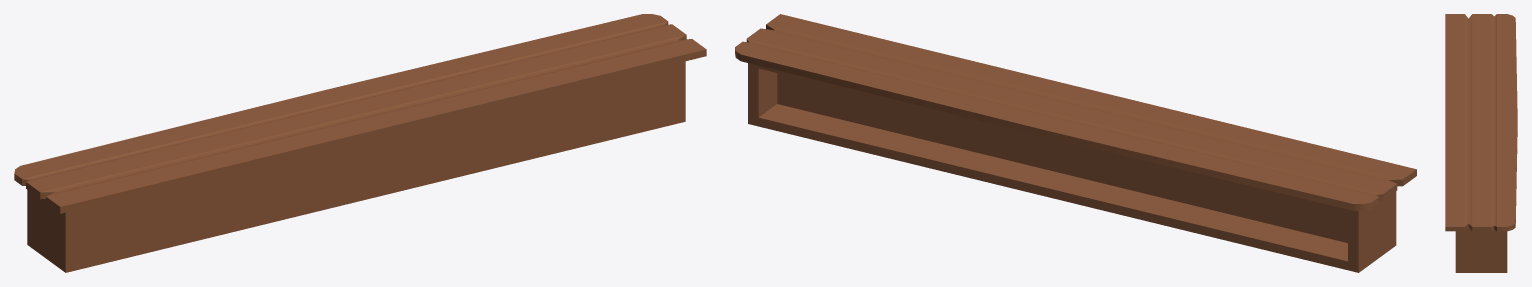
File: Recepcion.fbx
3 renders of one model, left to right at view 1: azimuth 30°, elevation 25°; view 2: azimuth 150°, elevation 25°; view 3: azimuth 270°, elevation 25°, orthographic. The views are drawn at different scales.
Visible parts, largest first — view 1: Cube.005; view 2: Cube.005; view 3: Cube.005.
Boxes of the visible parts, left/top/right/bottom form: Cube.005: left=14, top=14, right=706, bottom=272; Cube.005: left=735, top=14, right=1416, bottom=272; Cube.005: left=1445, top=14, right=1517, bottom=272.
Bounding box in the file's own units: 802 × 88.66 × 115.
